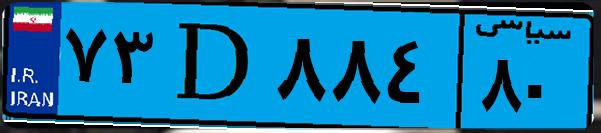0: (525, 38, 570, 115)
3: (110, 28, 158, 98)
4: (385, 28, 445, 110)
7: (57, 26, 110, 100)
8: (270, 28, 330, 110), (330, 28, 385, 110), (475, 38, 525, 113)
D: (158, 12, 270, 120)
